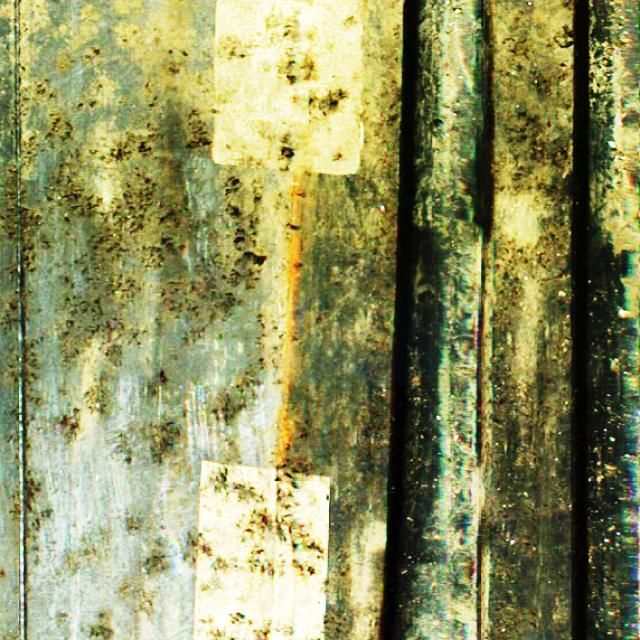Corrosion: (283, 226, 299, 393), (277, 407, 295, 465), (288, 183, 300, 214)
